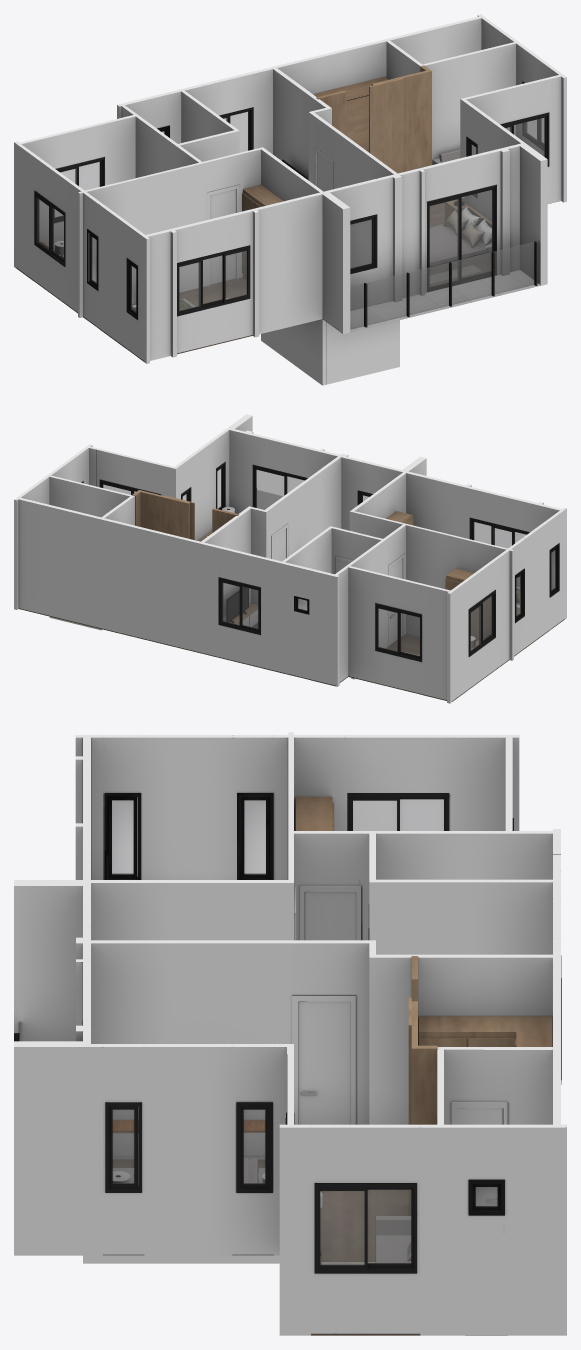
The model's file is Room_03.gltf.
3 views of the same model, one above another, from view 1: azimuth 30°, elevation 25°; view 2: azimuth 150°, elevation 25°; view 3: azimuth 270°, elevation 25° (orthographic). The views are drawn at different scales.
Parts seen in each view (by area): view 1: wall19_03, Glass, Wood_mat, Black_mat, Balcony_floor, White_mat, Floor, Pillow_low.006, brown; view 2: wall19_03, Glass, Black_mat, Wood_mat, White_mat, Floor; view 3: wall19_03, Glass, White_mat, Black_mat, Wood_mat, Floor, Sofa1.
Boxes of the visible parts, x1=… form: wall19_03: x1=14, y1=14, x2=566, y2=385; Glass: x1=37, y1=112, x2=544, y2=328; Wood_mat: x1=60, y1=65, x2=491, y2=280; Black_mat: x1=34, y1=81, x2=549, y2=327; Balcony_floor: x1=322, y1=270, x2=540, y2=333; White_mat: x1=54, y1=147, x2=491, y2=308; Floor: x1=16, y1=201, x2=558, y2=361; Pillow_low.006: x1=429, y1=224, x2=486, y2=266; brown: x1=42, y1=209, x2=484, y2=251; wall19_03: x1=14, y1=414, x2=566, y2=703; Glass: x1=102, y1=468, x2=555, y2=656; Black_mat: x1=81, y1=462, x2=559, y2=661; Wood_mat: x1=132, y1=490, x2=491, y2=649; White_mat: x1=204, y1=506, x2=519, y2=648; Floor: x1=18, y1=608, x2=564, y2=701; wall19_03: x1=14, y1=732, x2=566, y2=1335; Glass: x1=19, y1=799, x2=497, y2=1265; White_mat: x1=112, y1=885, x2=508, y2=1260; Black_mat: x1=14, y1=793, x2=561, y2=1273; Wood_mat: x1=295, y1=796, x2=552, y2=1215; Floor: x1=103, y1=1159, x2=506, y2=1335; Sofa1: x1=375, y1=1216, x2=411, y2=1262.
Size of the model in its own units: 11.41 by 4.32 by 6.74.
Materials: 25 (23 with a texture image).
